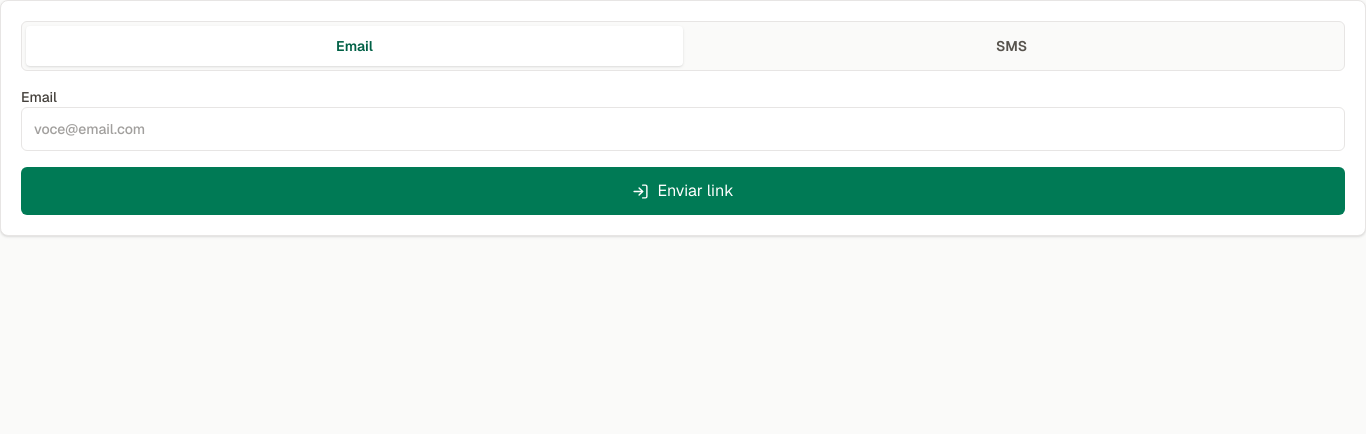
Scenario: AuthForm › sends an SMS OTP to the normalized phone number
Click the button "SMS": point(1012, 46) [683,26,1340,66]
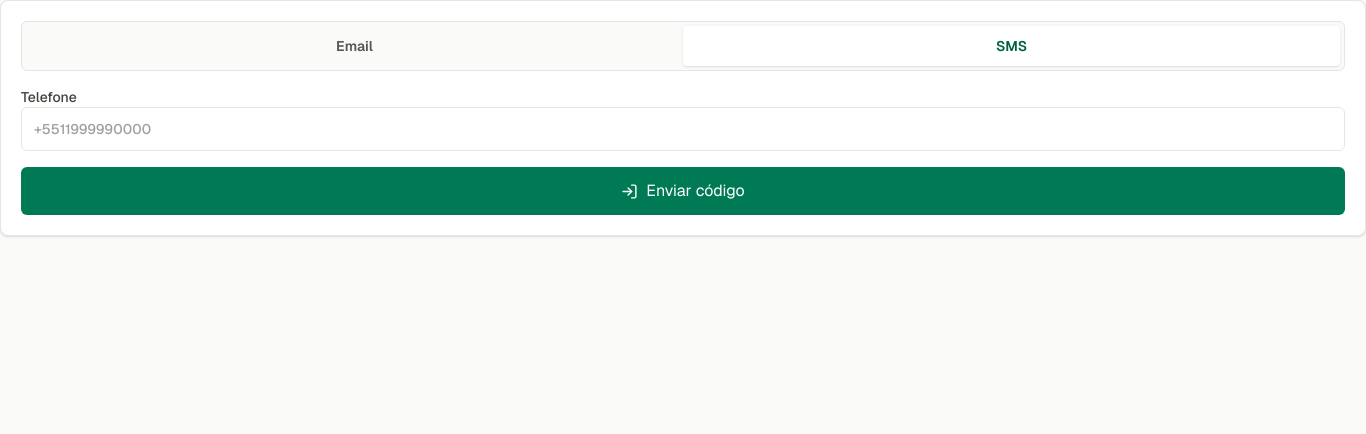
In the field labelled "Telefone": point(683, 129) [21,107,1345,151], type "+55 11 99999-0000"
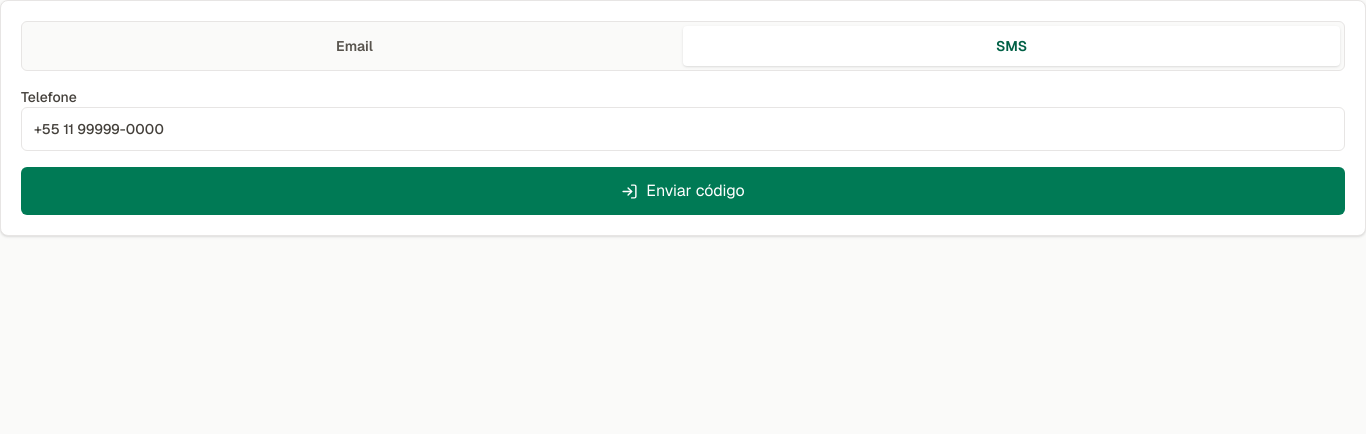
Click the button "Enviar código": point(683, 191) [21,167,1345,215]
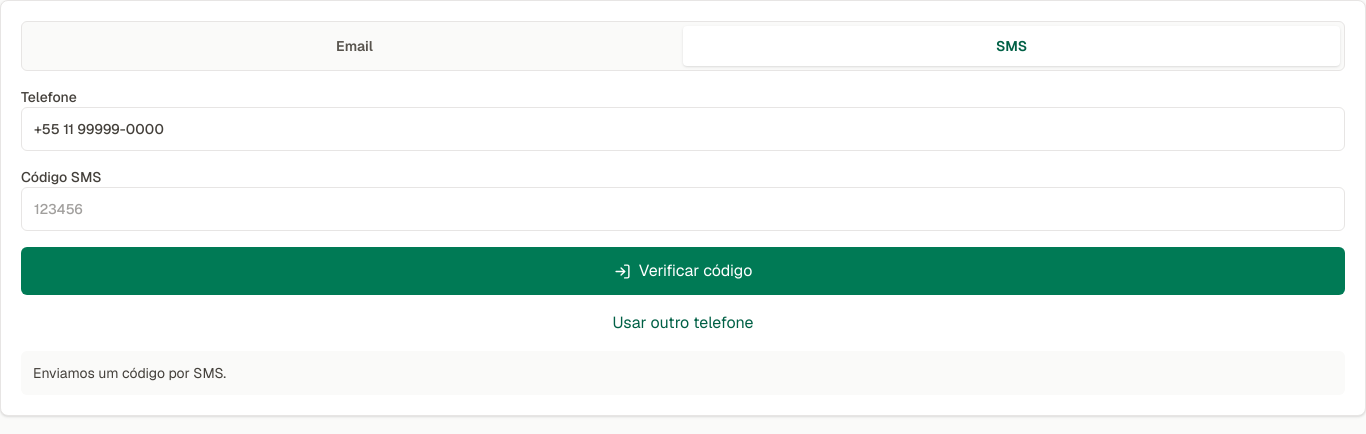
Expected: the field labelled "Código SMS" is shown, [21,187,1345,231]
